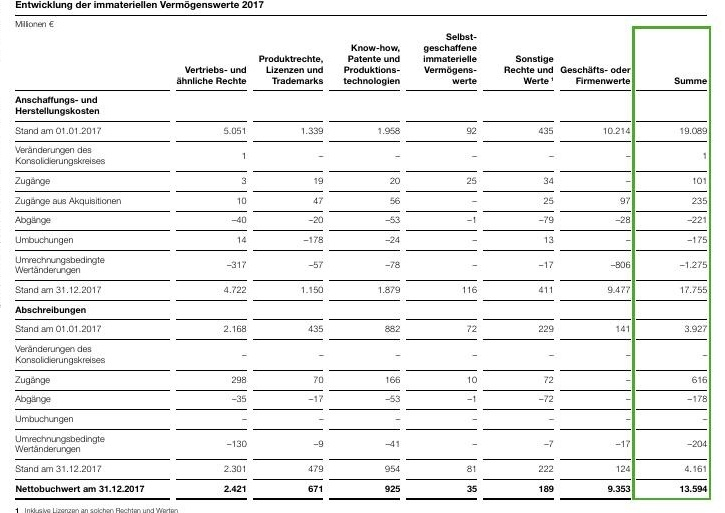table: (0, 0, 725, 513)
